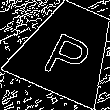P_NE: (38, 19, 97, 80)
